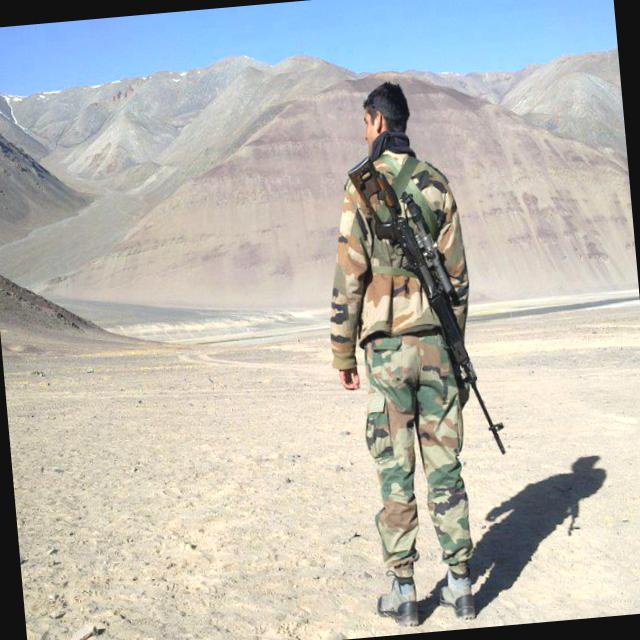long weapon: (340, 150, 516, 472)
